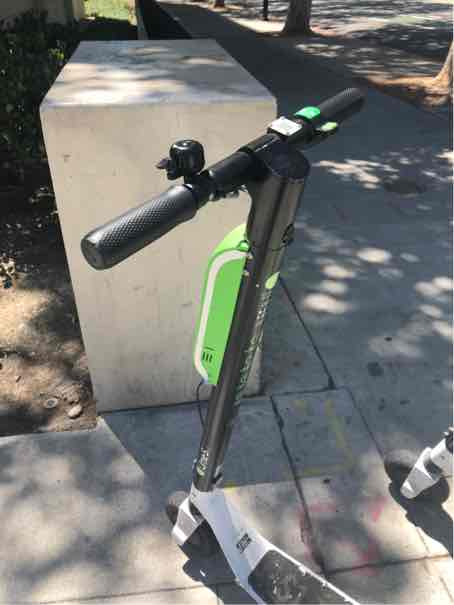scooter: (70, 75, 442, 605)
